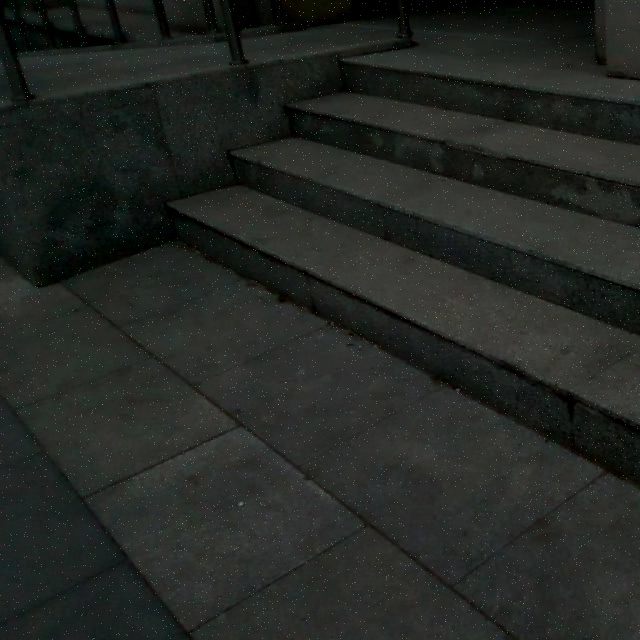stair: (193, 76, 640, 446)
